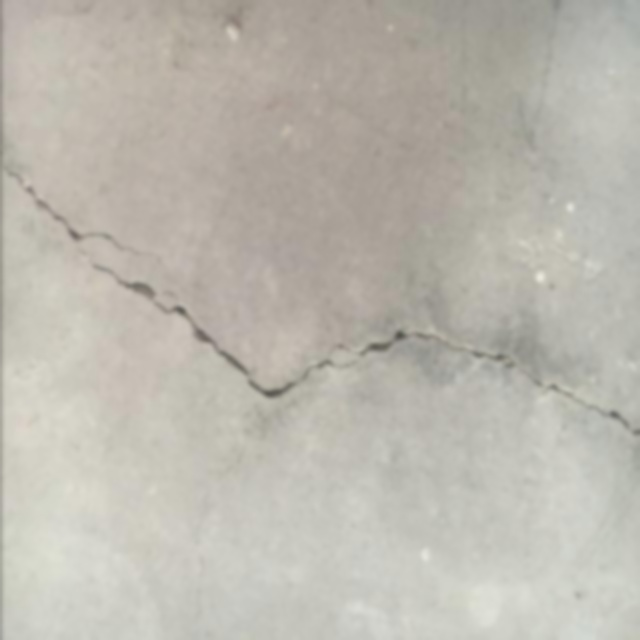SurfaceCrack: (497, 0, 639, 153)
